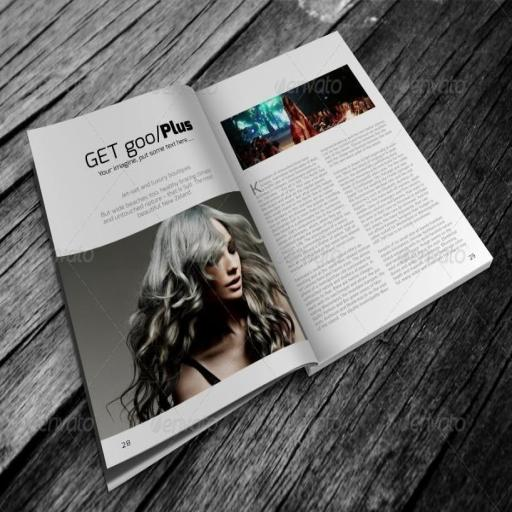paper: (28, 29, 494, 493)
